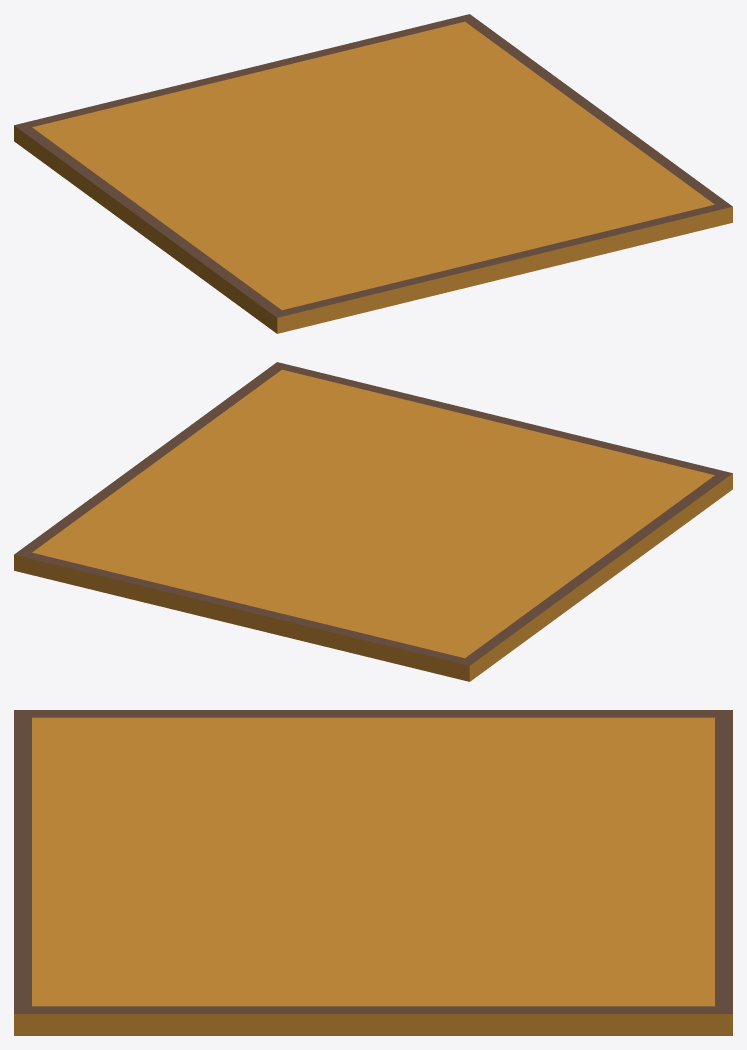
Rendered from normalTile.fbx.
The picture shows the model from 3 angles, top to bottom: view 1: azimuth 30°, elevation 25°; view 2: azimuth 150°, elevation 25°; view 3: azimuth 270°, elevation 25°; orthographic projection. The views are drawn at different scales.
Visible parts, largest first — view 1: pCube1; view 2: pCube1; view 3: pCube1.
Boxes of the visible parts, x1,y1,x2,y2 form: pCube1: [14, 14, 732, 333]; pCube1: [14, 362, 732, 681]; pCube1: [14, 710, 732, 1035].
Bounding box in the file's own units: 24 × 0.8092 × 24.
